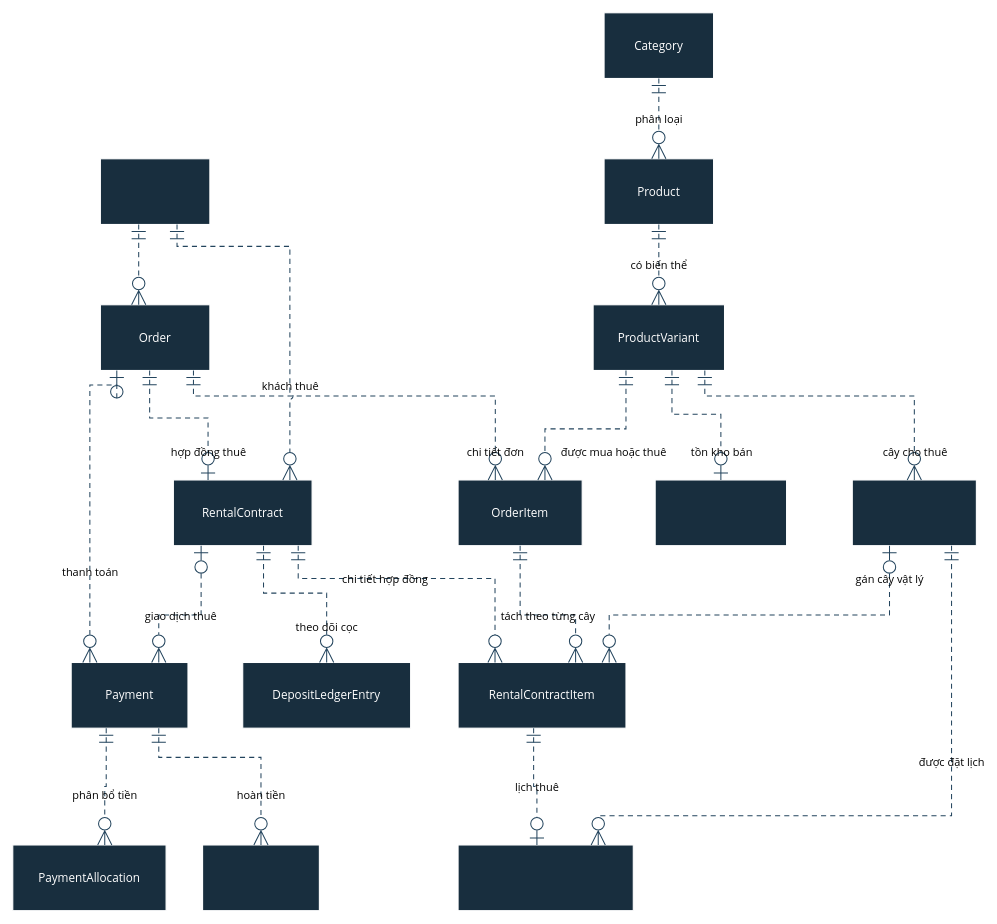
The diagram is 997 pixels wide and 924 high, and some of its shapes have lost their labels. Each missing label, with the centre of its shape:
PlantAsset: point (914, 512)
Refund: point (261, 877)
RentalAssetBooking: point (545, 877)
StockBalance: point (720, 512)
User: point (154, 191)
